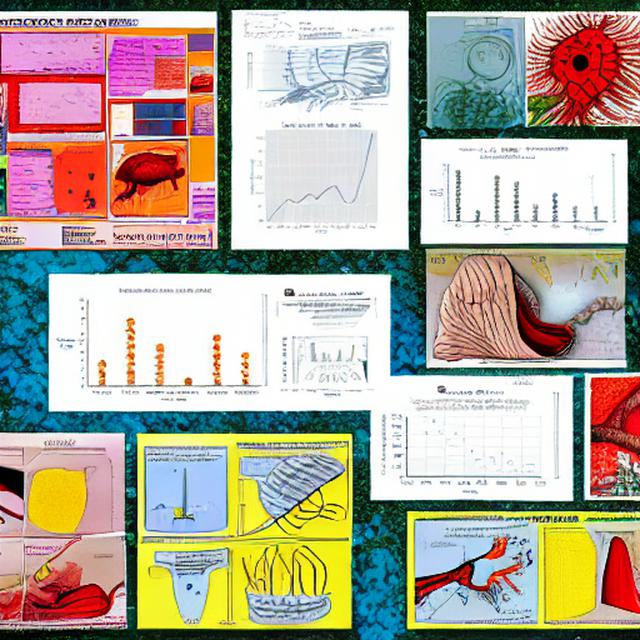Graph: (50, 285, 262, 408), (239, 115, 400, 236), (378, 396, 551, 496), (424, 152, 568, 236), (8, 77, 104, 133), (239, 11, 296, 44), (300, 336, 356, 369)
